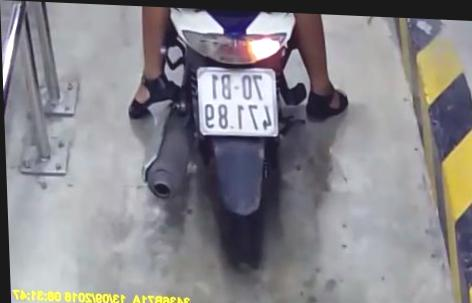License_Plate: (192, 61, 284, 145)
